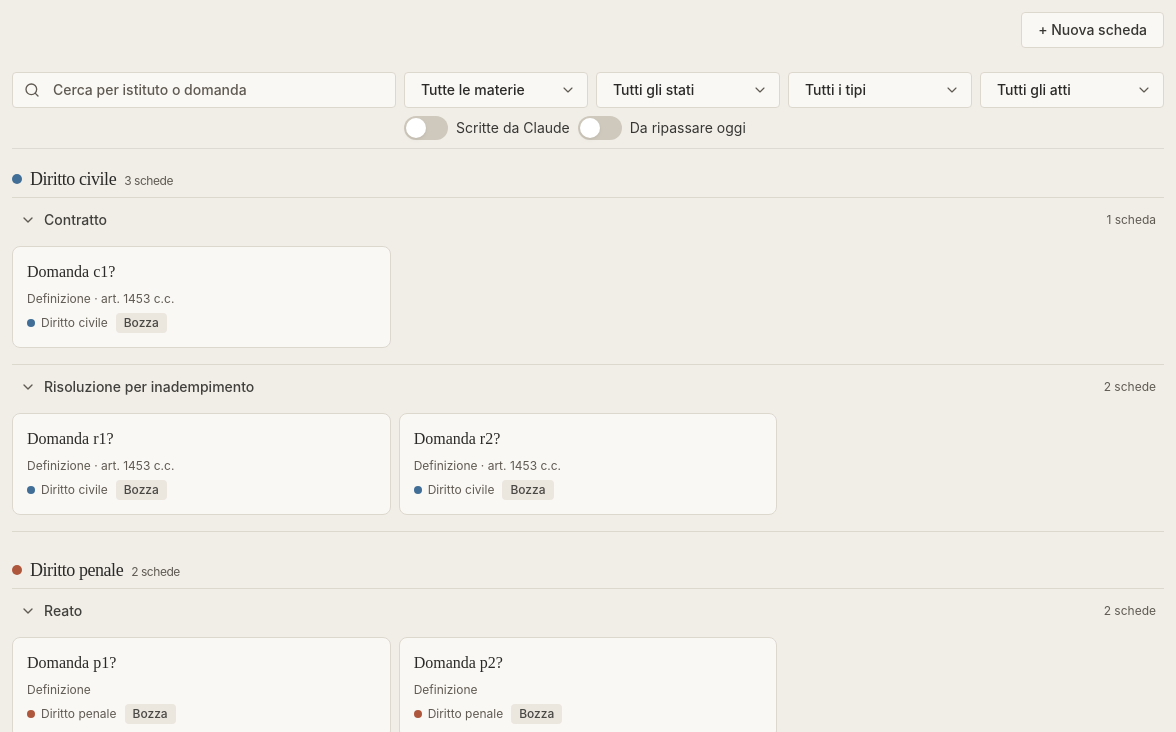
Scenario: «Le mie schede», the detail › opens beside the list from a row, at its own address
Click the link "Domanda r1?".
click(70, 438)  # box [12, 413, 391, 515]
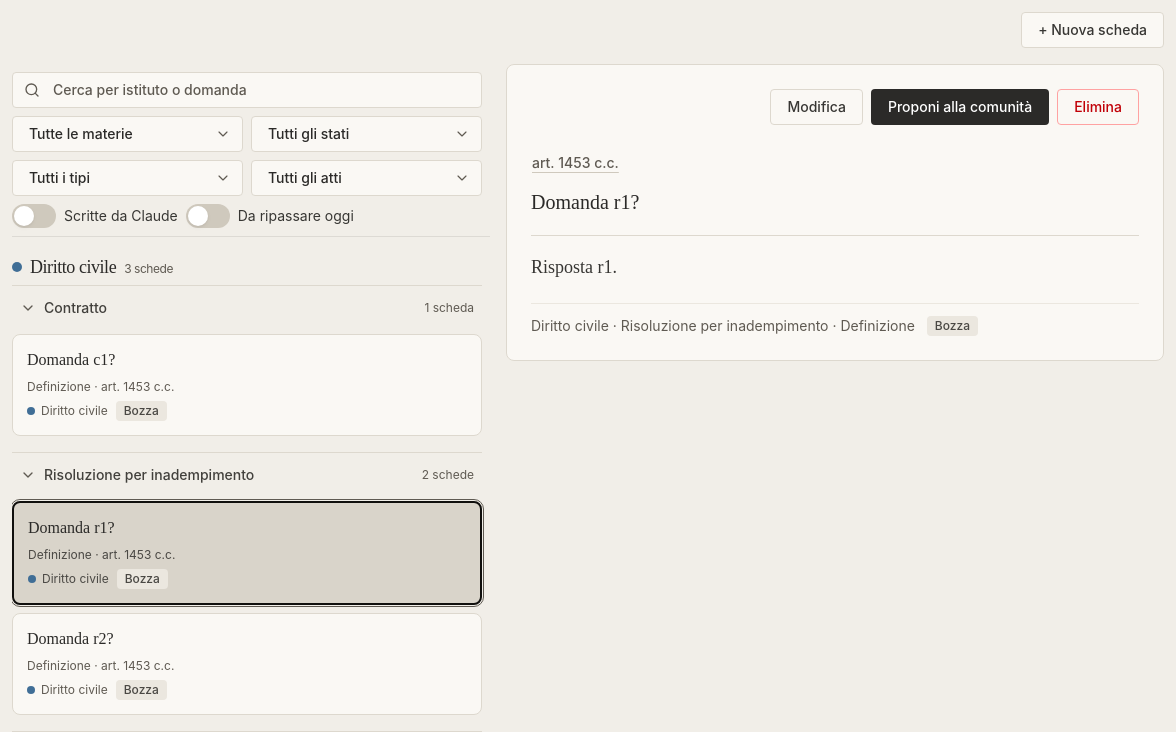
Result: the heading "Domanda r1?" is shown at [531, 191, 639, 213]
Result: the text "Risposta r1." is shown at [531, 257, 617, 277]
Result: the button "art. 1453 c.c." is shown at [531, 145, 620, 181]
